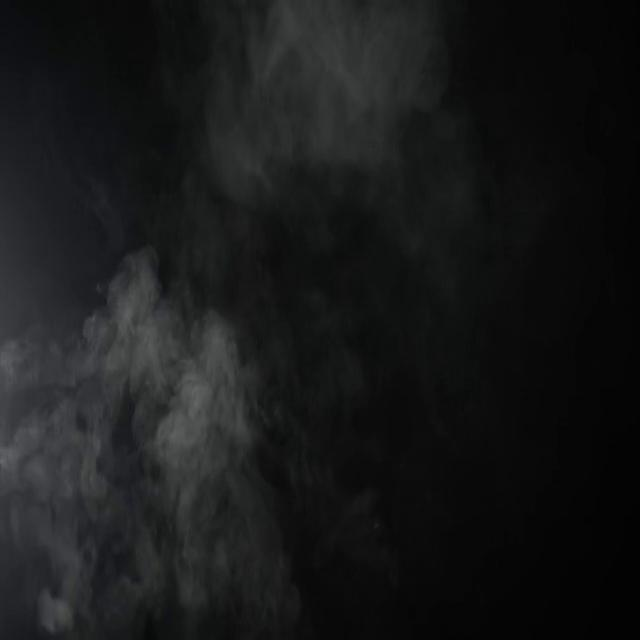smoke: (90, 264, 170, 406), (162, 311, 244, 449), (7, 418, 89, 511), (2, 340, 29, 394)
